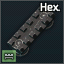Hexagon short length rail Anodized Red: (0, 0, 64, 64)
